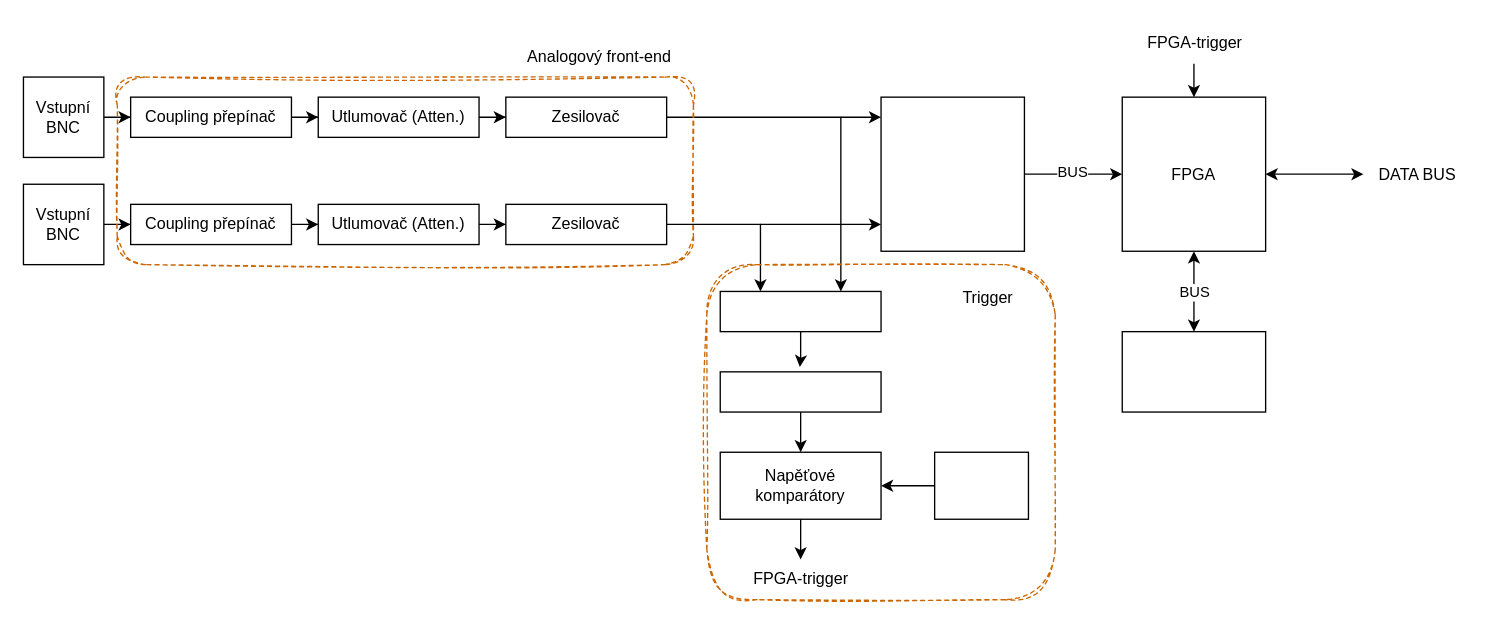
The diagram is 1494 pixels wide and 623 high, and some of its shapes have lost their labels. The shapes that lost their labels are listed below. From the top down, each one's centre as x and y in pixels, then its label:
point (952, 173): ADC 8b >=500MSaps
point (800, 311): Přepínač kanálů
point (800, 391): Trigger coupling
point (1193, 371): RAM >=500MB
point (980, 485): 12b DAC
